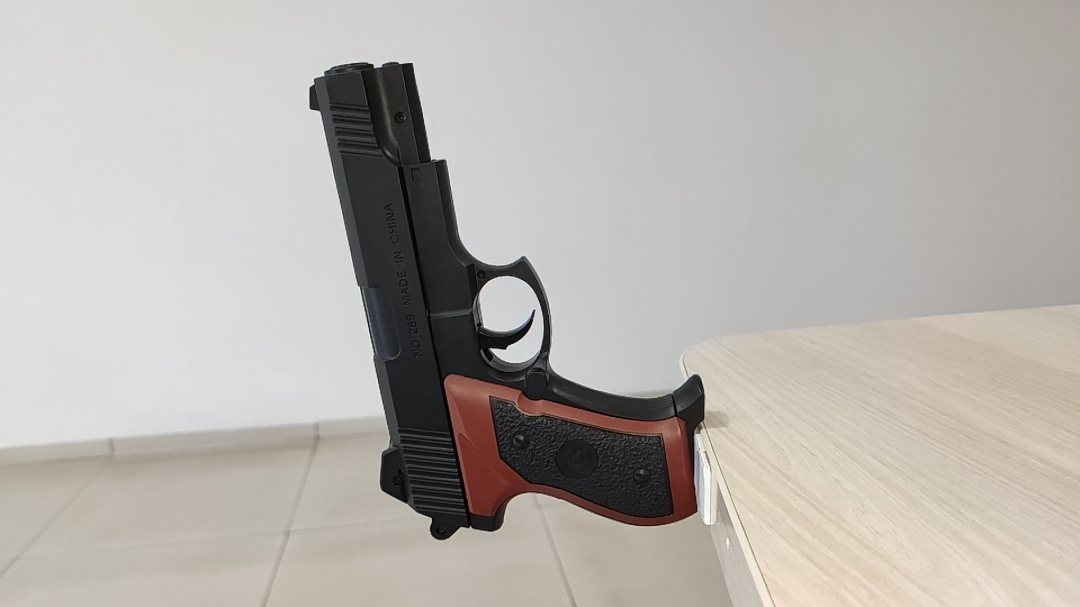gun: (611, 226, 658, 249)
